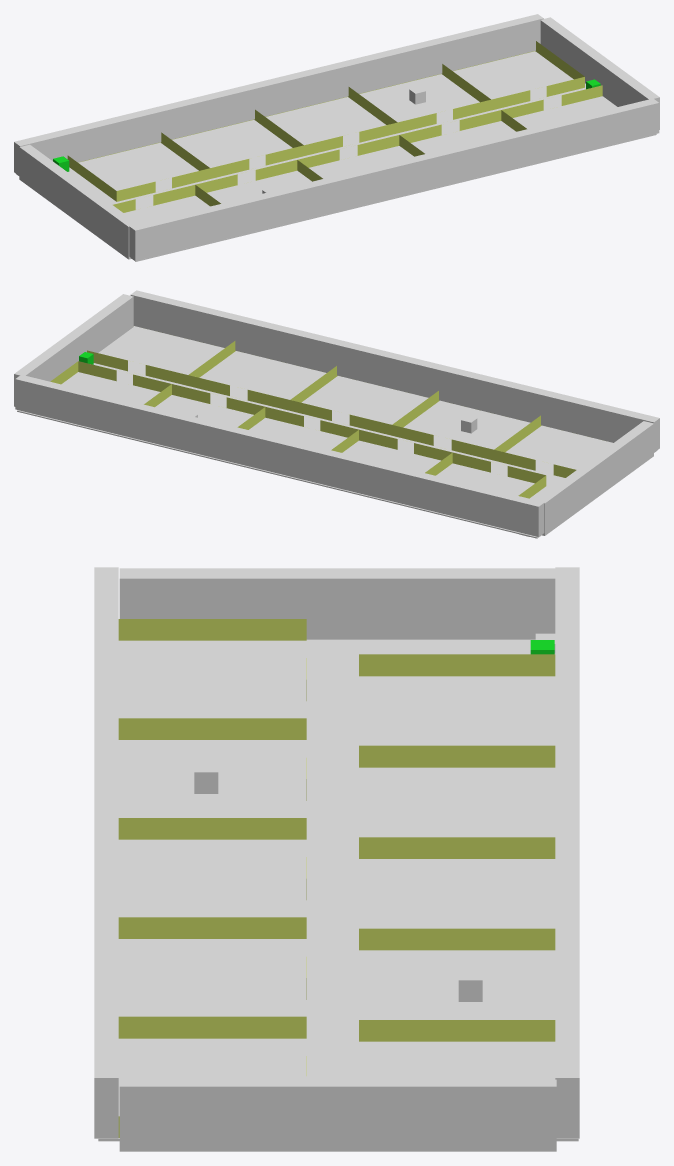
The picture shows the model from 3 angles, top to bottom: view 1: azimuth 30°, elevation 25°; view 2: azimuth 150°, elevation 25°; view 3: azimuth 270°, elevation 25°; orthographic projection. The views are drawn at different scales.
Visible parts, largest first — view 1: Floor, Wall.001, Wall, A, A mirrored, Wall.003, Wall.002; view 2: Floor, Wall, Wall.001, A mirrored, A, Wall.003, Wall.002; view 3: Floor, Wall.002, Wall.003, A, A mirrored, Wall.001, Wall.
Part boxes in pixels (x1=…): Floor: x1=16, y1=51, x2=656, y2=261; Wall.001: x1=129, y1=98, x2=659, y2=260; Wall: x1=14, y1=14, x2=543, y2=175; A: x1=67, y1=41, x2=584, y2=201; A mirrored: x1=113, y1=85, x2=602, y2=212; Wall.003: x1=19, y1=144, x2=137, y2=259; Wall.002: x1=540, y1=17, x2=659, y2=129; Floor: x1=17, y1=326, x2=657, y2=538; Wall: x1=15, y1=374, x2=544, y2=536; Wall.001: x1=130, y1=290, x2=659, y2=452; A mirrored: x1=87, y1=341, x2=576, y2=477; A: x1=50, y1=361, x2=546, y2=498; Wall.003: x1=536, y1=421, x2=653, y2=535; Wall.002: x1=14, y1=294, x2=133, y2=406; Floor: x1=98, y1=639, x2=578, y2=1141; Wall.002: x1=119, y1=1076, x2=556, y2=1151; Wall.003: x1=119, y1=568, x2=555, y2=639; A: x1=359, y1=654, x2=555, y2=1041; A mirrored: x1=118, y1=619, x2=306, y2=1137; Wall.001: x1=94, y1=567, x2=118, y2=1138; Wall: x1=555, y1=567, x2=579, y2=1138.
Size of what is drawn, in the model's own units: 102 by 6.85 by 40.38.
